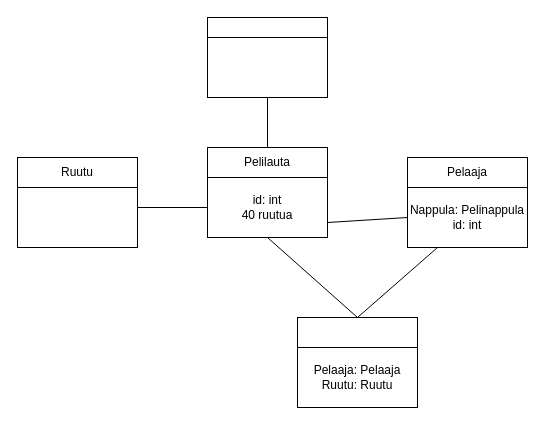
The diagram is 545 pixels wide and 425 high, and some of its shapes have lost their labels. The box of each missing label's shape, as (x1, y1, x2, y2) in pixels:
id: int Pelilauta 2-8 pelaajaa: (206, 36, 328, 98)
id: int Ruutu: seuraava: (16, 186, 138, 248)
Monopoli: (206, 16, 328, 38)
Pelinappula: (296, 316, 418, 348)
